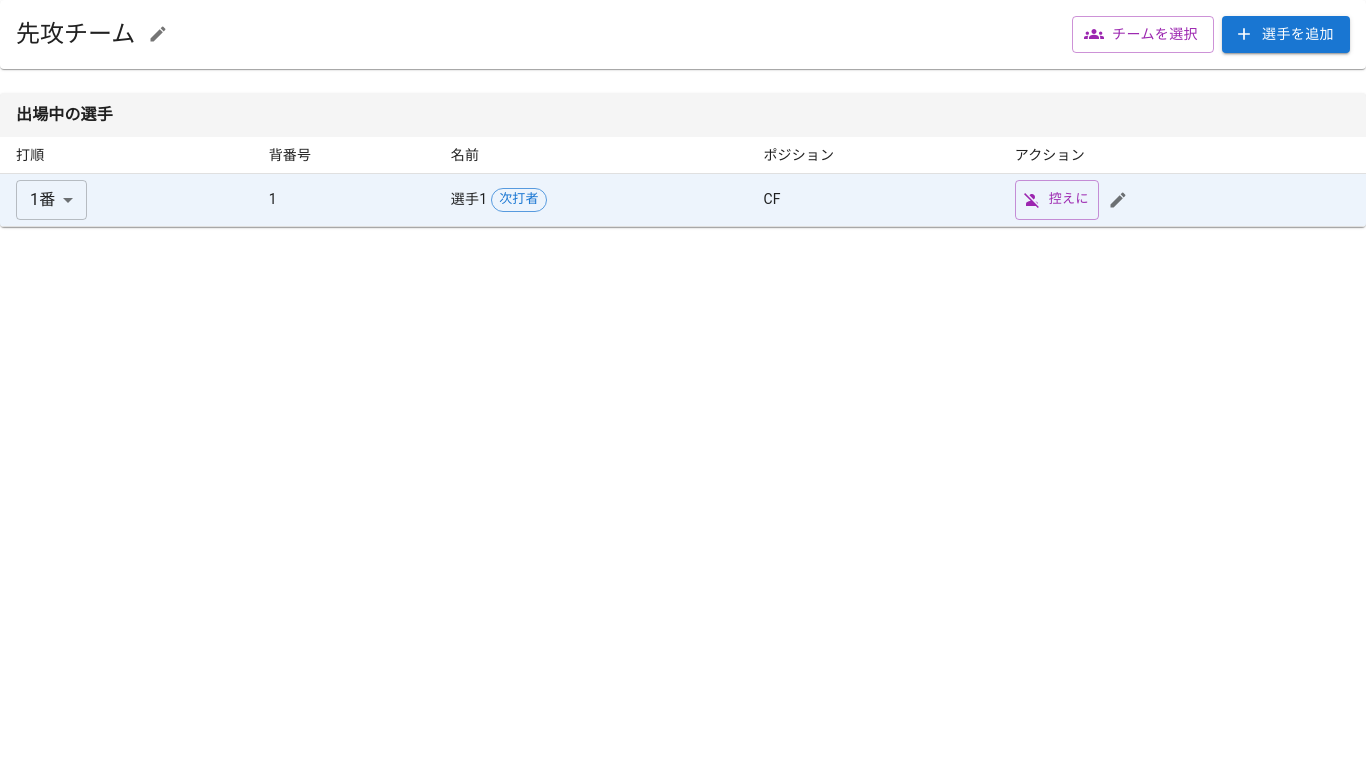
Test: 打席のある選手は削除を止め、対応付けを案内する
Click the button named "選手情報を編集".
click(1118, 200)  # box [1103, 184, 1133, 214]
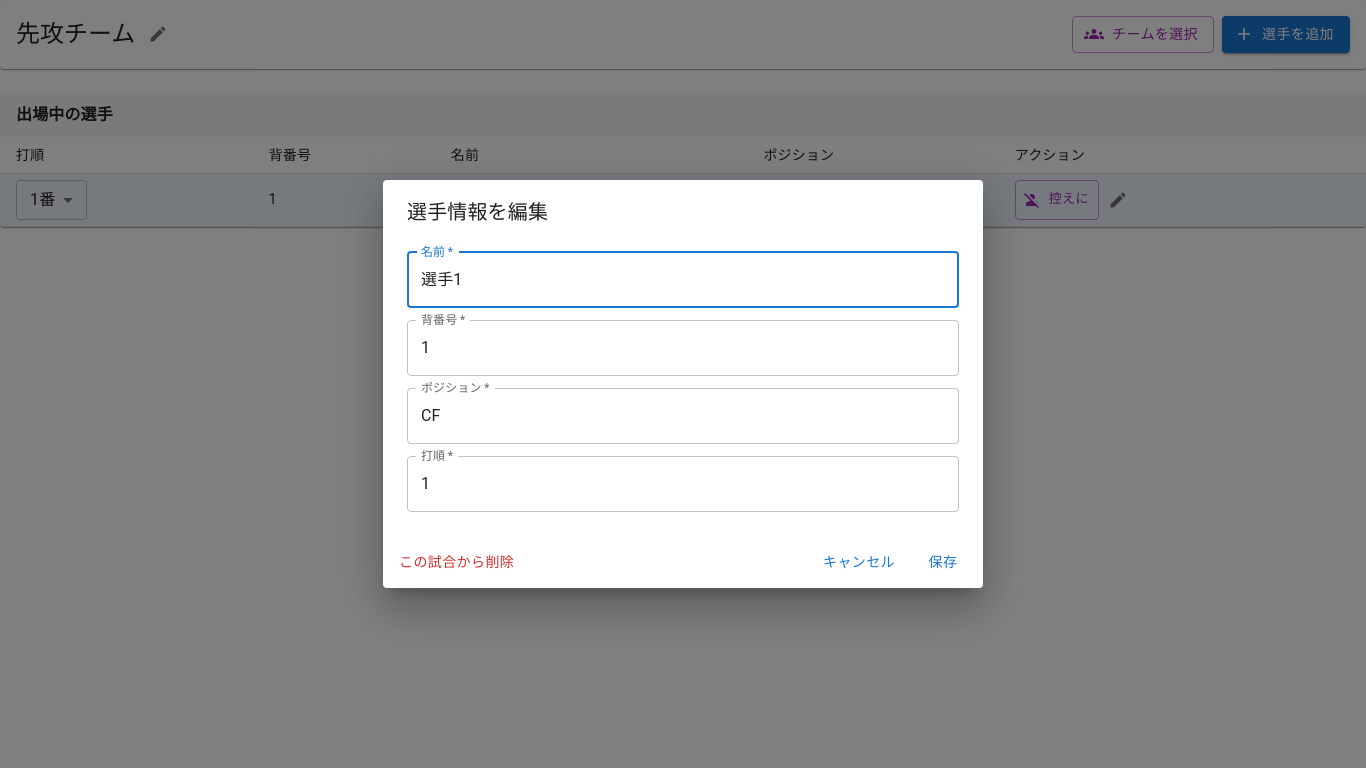
Click the button "この試合から削除".
click(457, 562)  # box [391, 544, 522, 580]
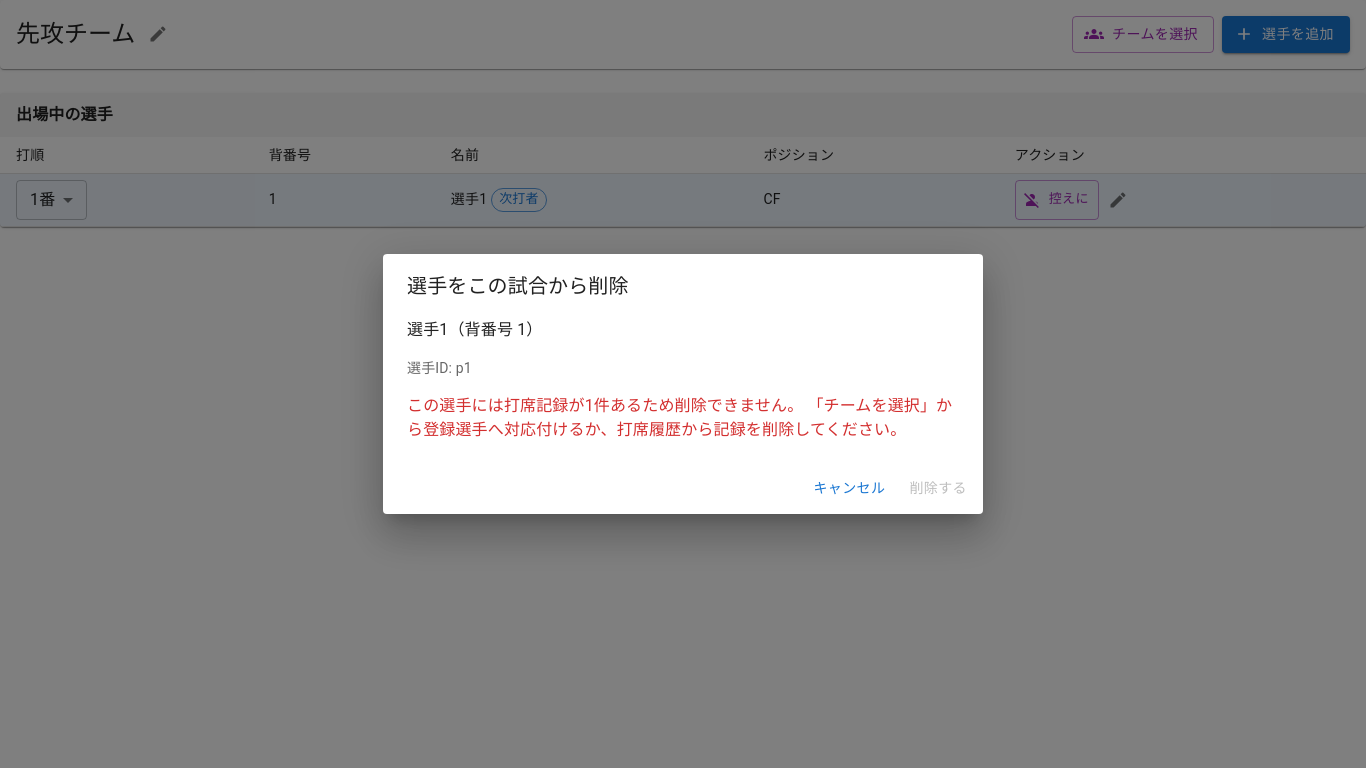
expect the message shows "打席記録が1件あるため削除できません": met, box [407, 394, 959, 442]
expect the dialog "選手をこの試合から削除" shows "登録選手へ対応付ける": met, box [407, 396, 952, 439]
expect the button "削除する" is disabled: met, box [901, 470, 975, 506]
